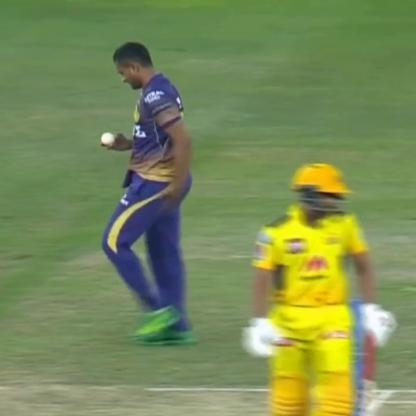ball: (95, 123, 122, 146)
